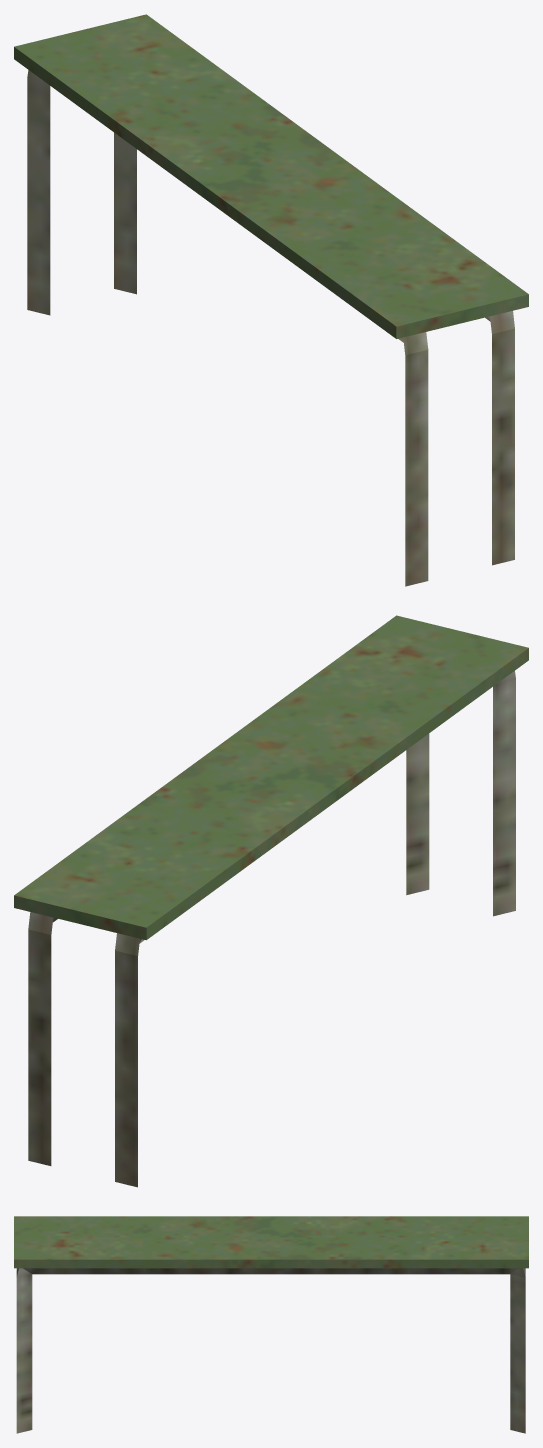
Rendered from Urban_BusstopBench_Model.fbx.
The picture shows the model from 3 angles, top to bottom: view 1: azimuth 30°, elevation 25°; view 2: azimuth 150°, elevation 25°; view 3: azimuth 270°, elevation 25°; orthographic projection. The views are drawn at different scales.
Visible parts, largest first — view 1: Urban_BusstopBench_Mesh; view 2: Urban_BusstopBench_Mesh; view 3: Urban_BusstopBench_Mesh.
Boxes of the visible parts, x1,y1,x2,y2 form: Urban_BusstopBench_Mesh: (14, 14, 528, 586); Urban_BusstopBench_Mesh: (14, 615, 528, 1187); Urban_BusstopBench_Mesh: (14, 1216, 528, 1433).
Bounding box in the file's own units: 0.4 × 0.7619 × 2.
